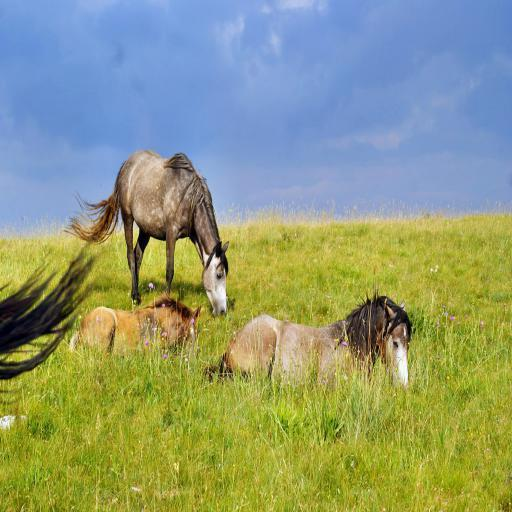horse: (62, 148, 230, 321), (202, 286, 412, 390), (0, 242, 105, 407), (66, 289, 202, 356)
